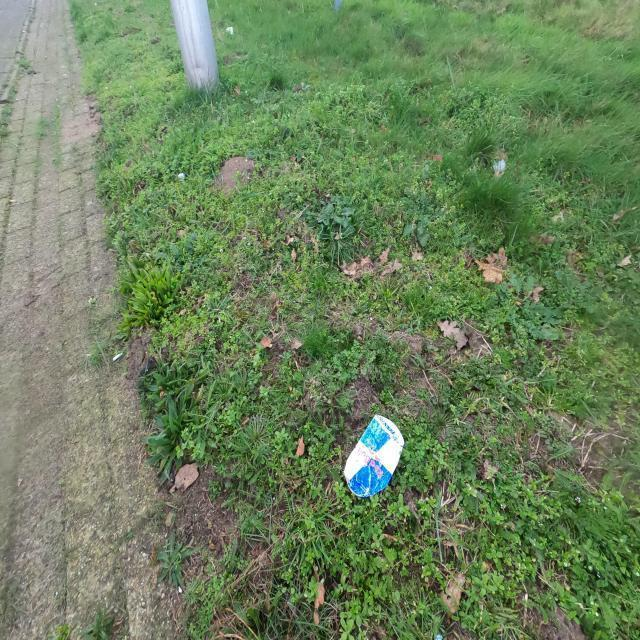Can-Metal: (343, 414, 405, 498)
